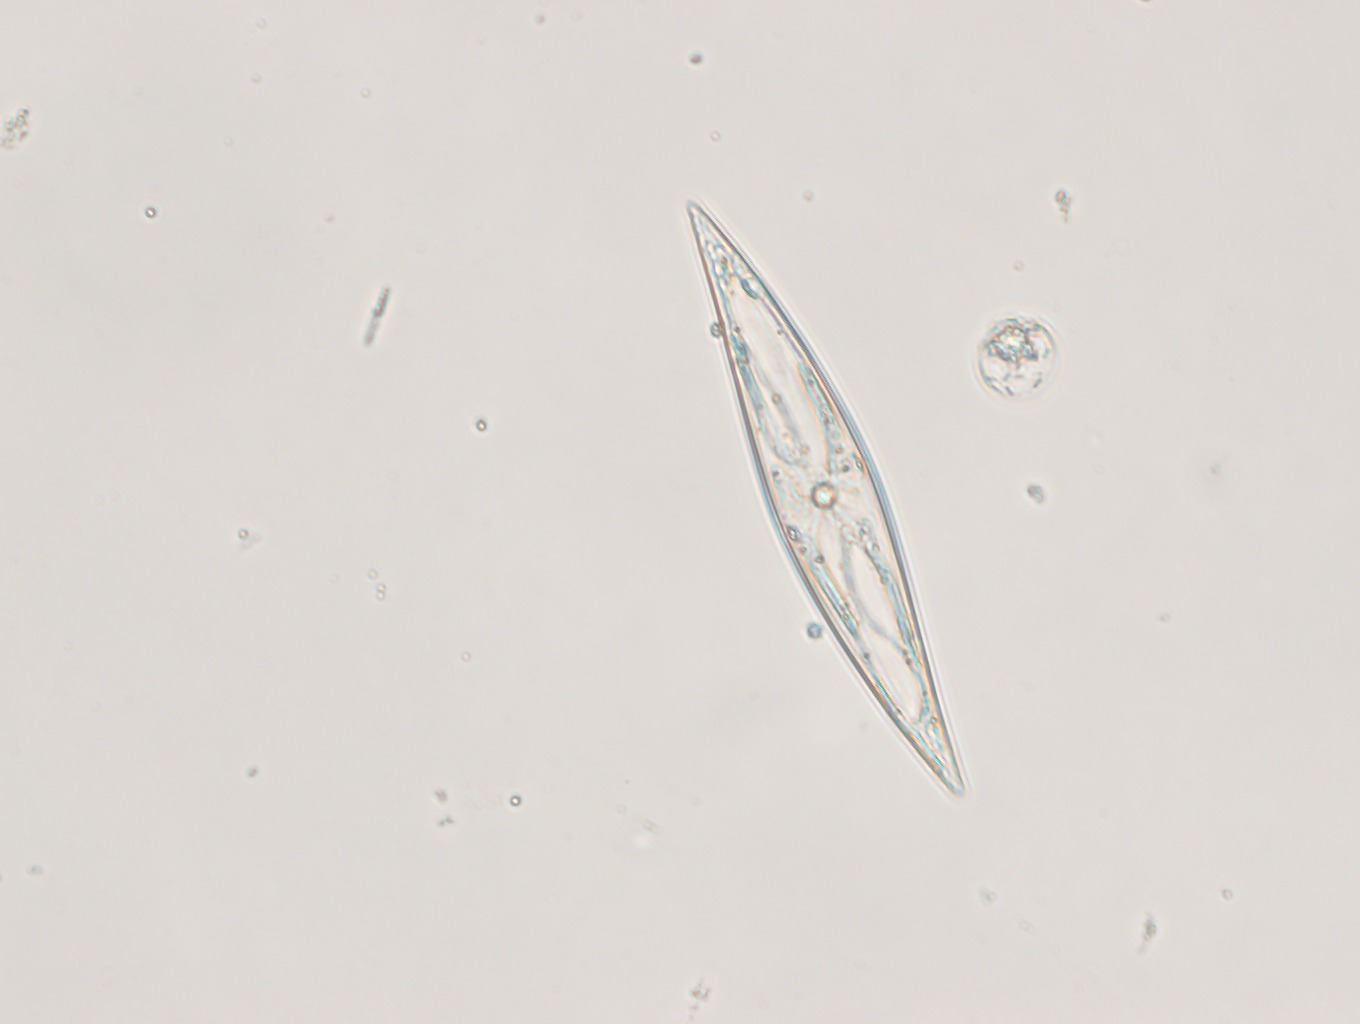pleurosigma pelagicum: (684, 195, 967, 801)
